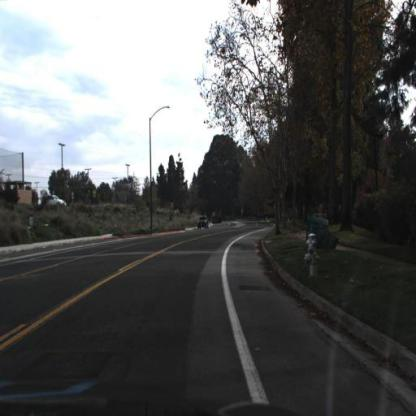car: (43, 194, 67, 210), (195, 212, 213, 233), (197, 216, 211, 234)
